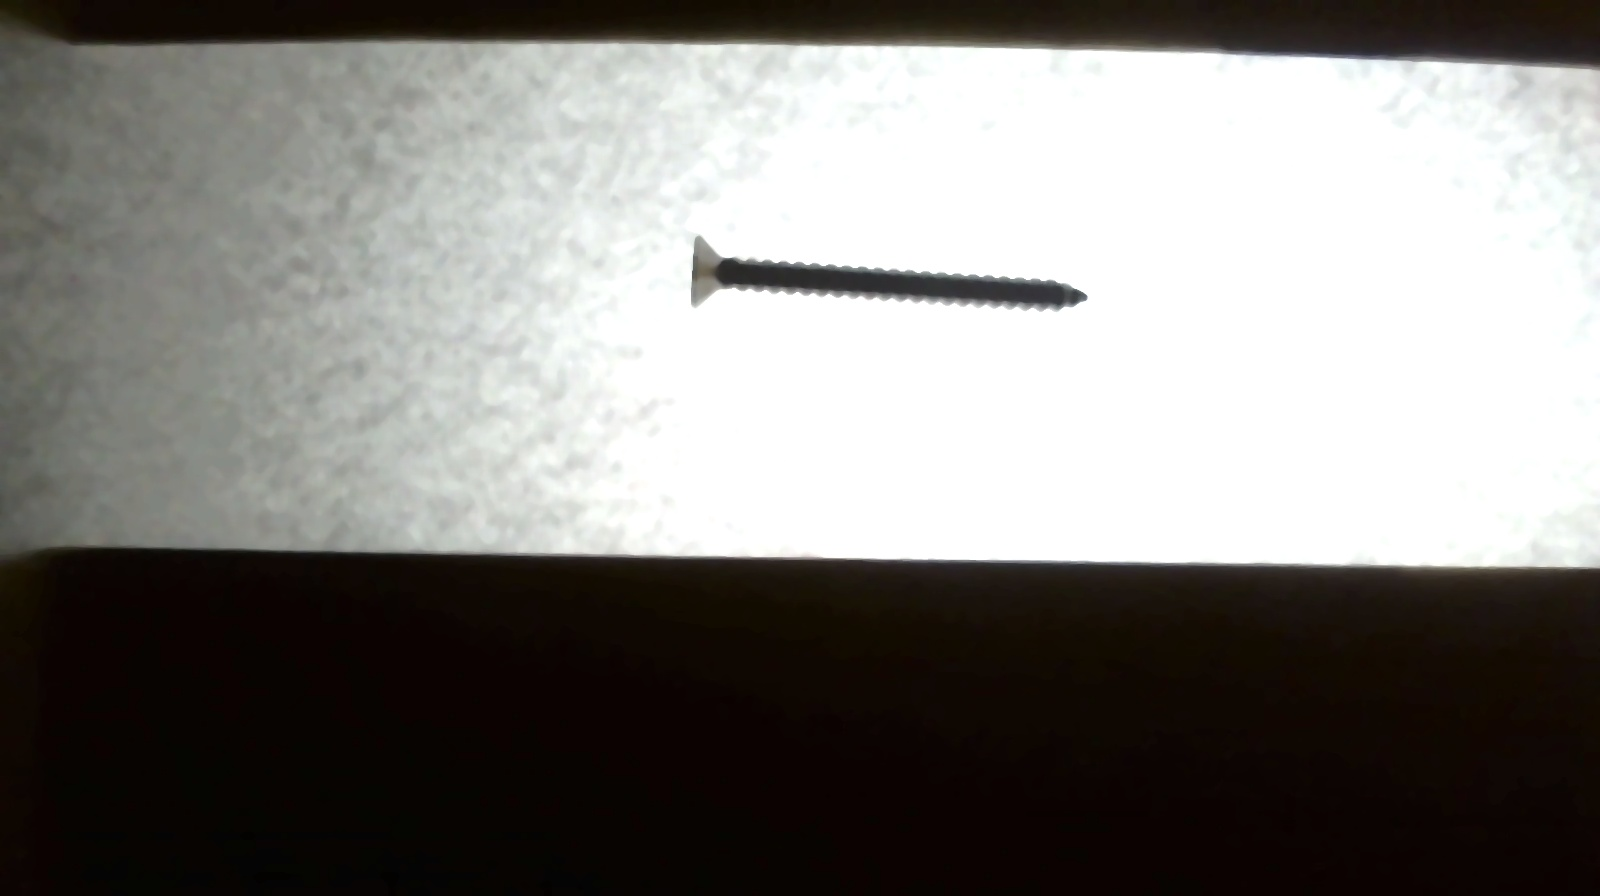S002: (658, 222, 1112, 344)
